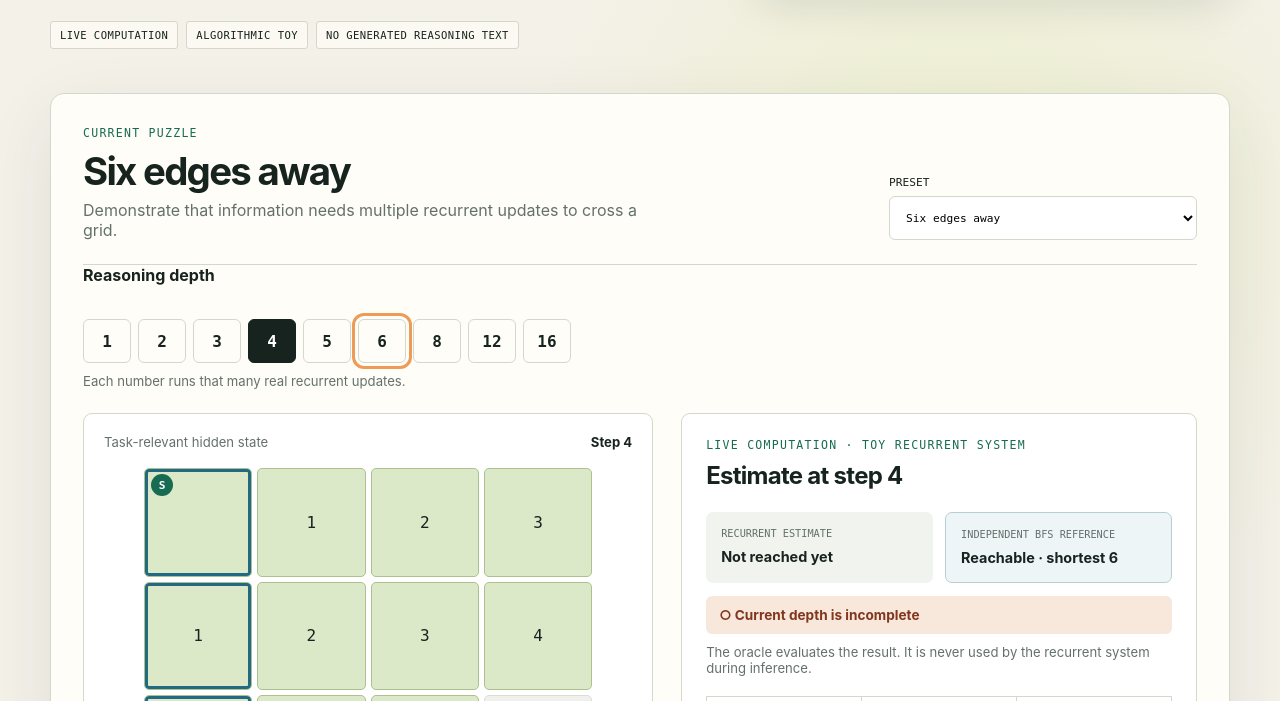
Test case: interactive learning experience › supports keyboard activation of depth controls
(page scrolled)
Press Enter in the button "6", box [358,319,406,363]
Click the button "6" at (382, 341), box [358,319,406,363]
(page scrolled)
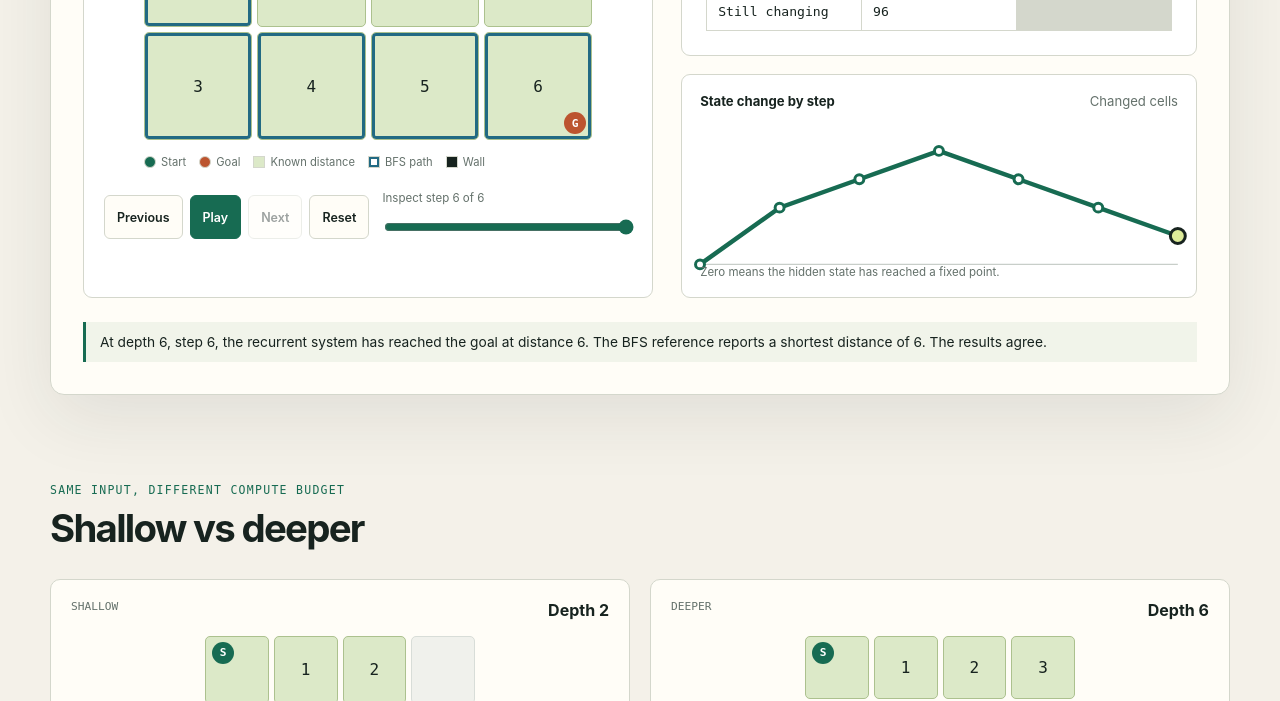
Now the text with test id "plain-summary" shows "At depth 6", box [100,334,1047,350]
